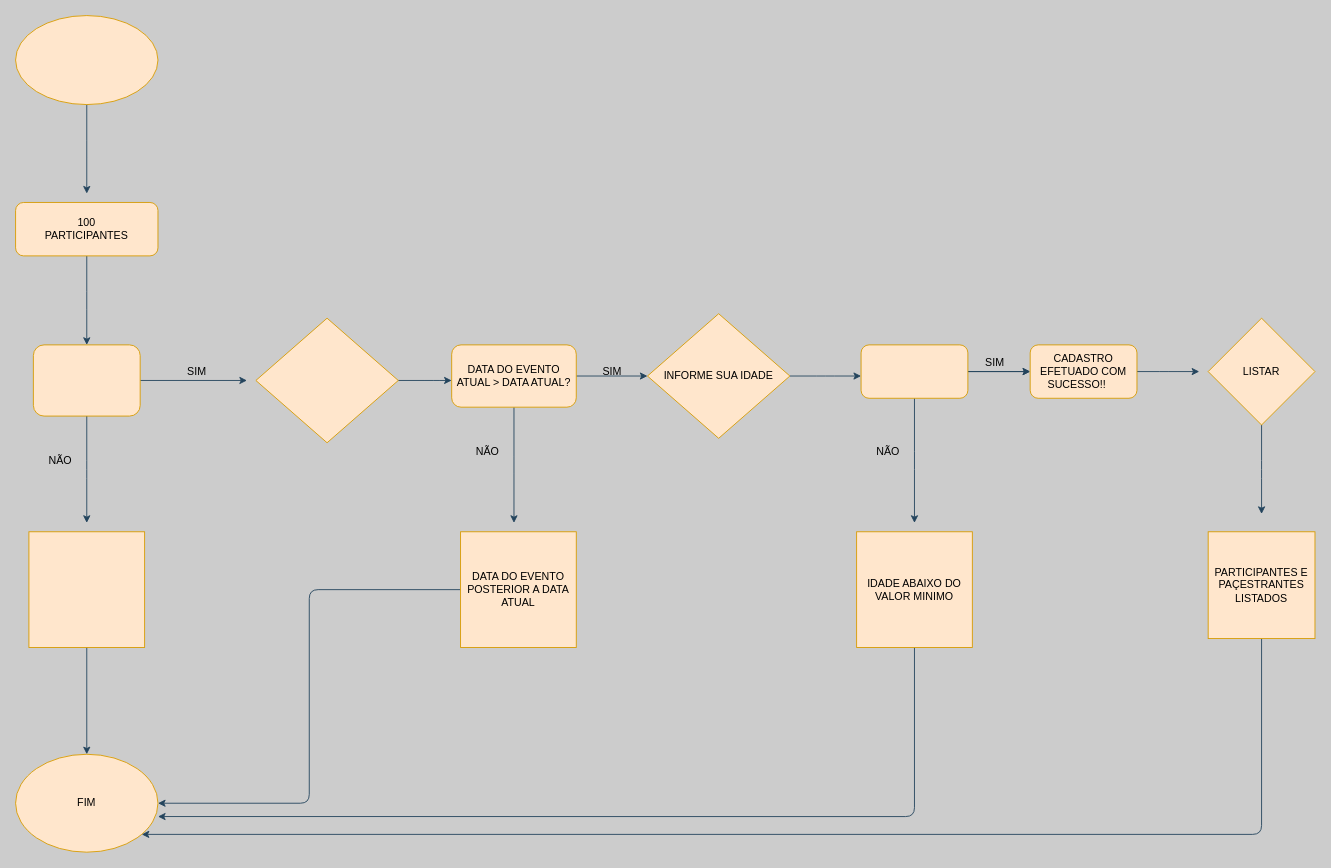
Image size: 1331x868. Some labels were removed from this diagram. The centre of each missing label's shape, as x and y in pixels:
"DATA DO EVENTO > DATA ATUAL" goes at (326,380).
"IDADE > 18" goes at (914,371).
"INICIO" goes at (86,60).
"NUMERO DE PARTICIPANTES <100 ?" goes at (86,380).
"NUMERO DE PARTICIPANTES EXCEDE OLIMITE MAXIMO" goes at (86,589).
